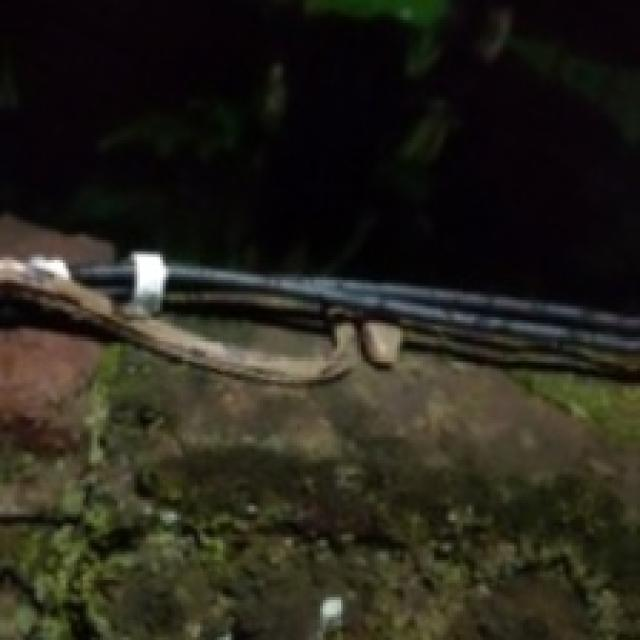dog-toothed cat snake: (0, 261, 402, 386)
